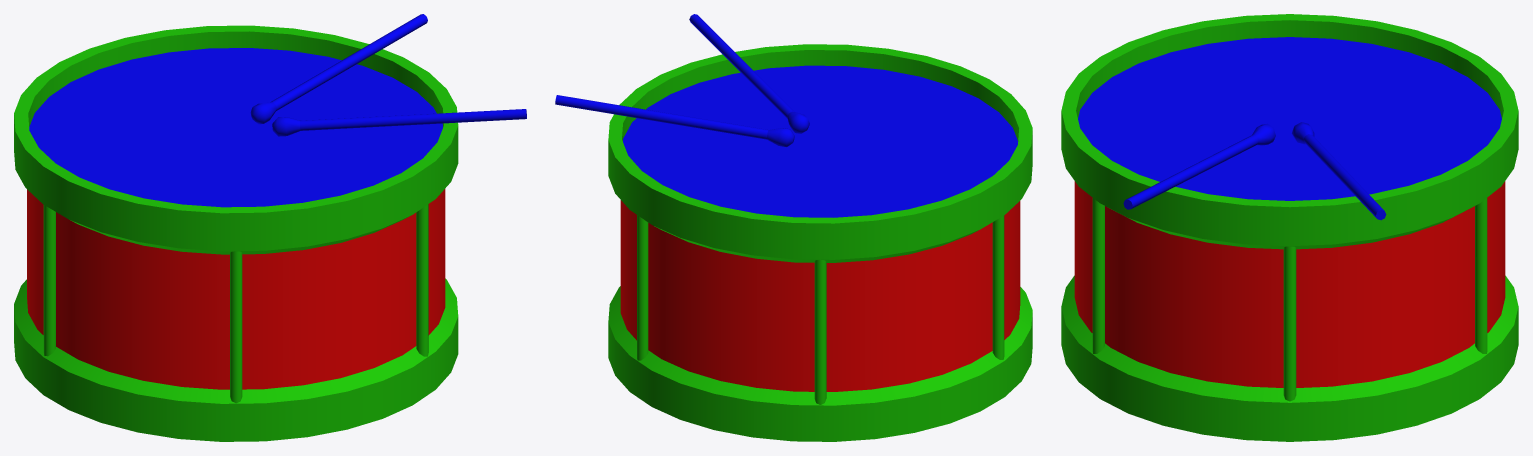
File: Instrument1.fbx
3 renders of one model, left to right at view 1: azimuth 30°, elevation 25°; view 2: azimuth 150°, elevation 25°; view 3: azimuth 270°, elevation 25°, orthographic. The views are drawn at different scales.
Parts seen in each view (by area): view 1: Instrument1; view 2: Instrument1; view 3: Instrument1.
Boxes of the visible parts, box(x1,y1,x2,y2) form: Instrument1: box(14, 14, 526, 441); Instrument1: box(555, 14, 1032, 441); Instrument1: box(1061, 14, 1518, 441).
Size of the model in its own units: 3.17 by 1.74 by 2.86.
